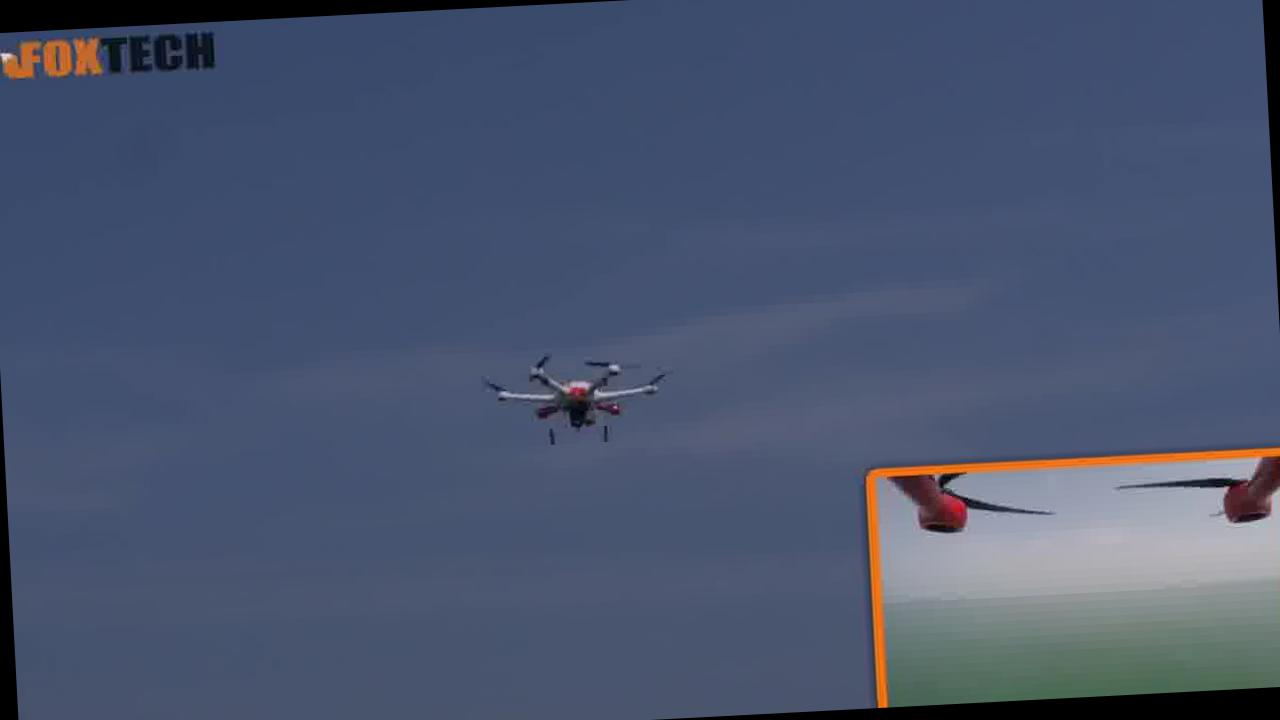drone: (464, 343, 686, 457)
